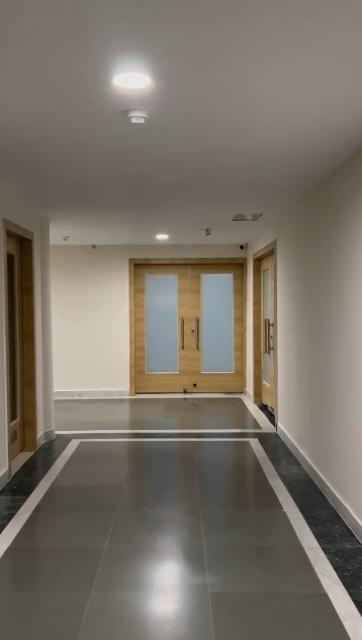door: (130, 262, 244, 394), (2, 218, 36, 460), (255, 258, 277, 407)
floor: (0, 396, 362, 639)
wall: (277, 145, 362, 514), (50, 241, 125, 385)
